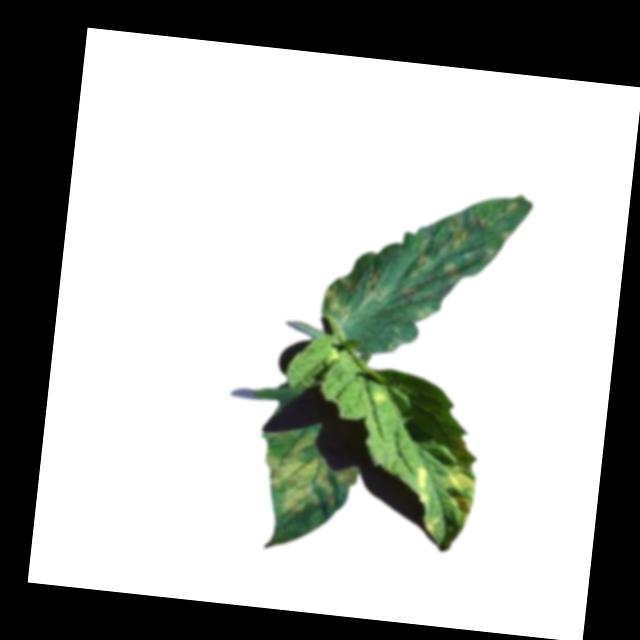Leaf_Mold: (256, 428, 363, 523), (432, 467, 478, 528), (317, 280, 355, 324), (406, 236, 433, 282), (357, 269, 388, 308), (442, 210, 469, 254), (411, 463, 431, 503), (441, 259, 460, 281), (371, 388, 389, 409)
